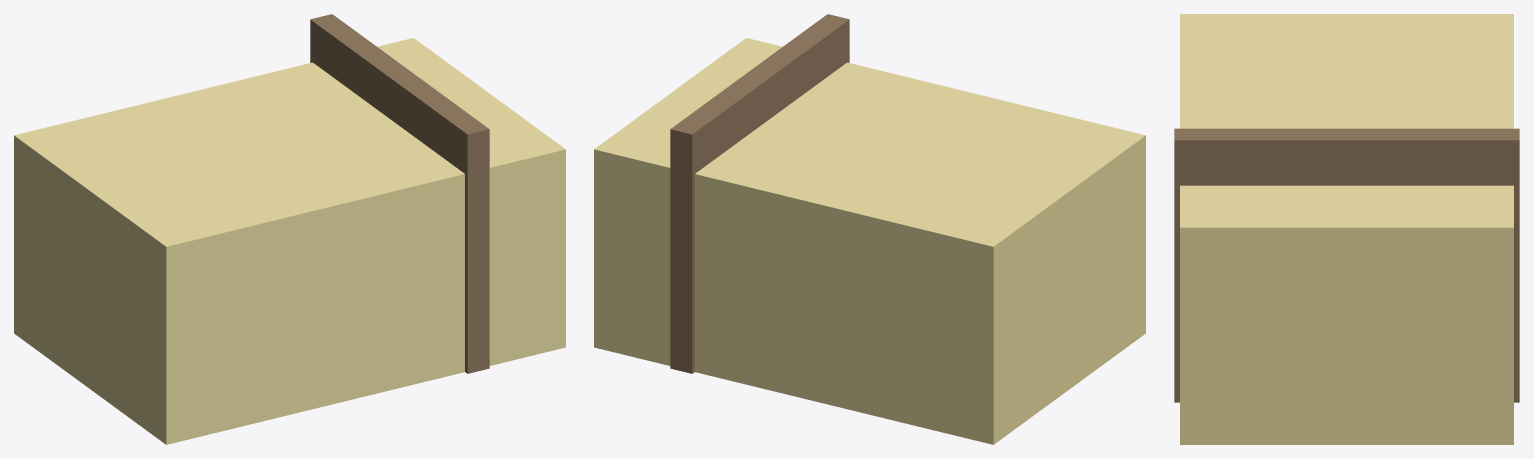
Rendered from Prop_Live_AMF_HayBale_V13.glb.
3 views of the same model, side by side, from view 1: azimuth 30°, elevation 25°; view 2: azimuth 150°, elevation 25°; view 3: azimuth 270°, elevation 25° (orthographic). The views are drawn at different scales.
Parts seen in each view (by area): view 1: Prop_Live_AMF_HayBale_V13; view 2: Prop_Live_AMF_HayBale_V13; view 3: Prop_Live_AMF_HayBale_V13.
Boxes of the visible parts, x1,y1,x2,y2 form: Prop_Live_AMF_HayBale_V13: (14, 14, 565, 444); Prop_Live_AMF_HayBale_V13: (594, 14, 1145, 444); Prop_Live_AMF_HayBale_V13: (1174, 14, 1519, 444).
Size of the model in its own units: 0.9085 by 0.52 by 0.62.
